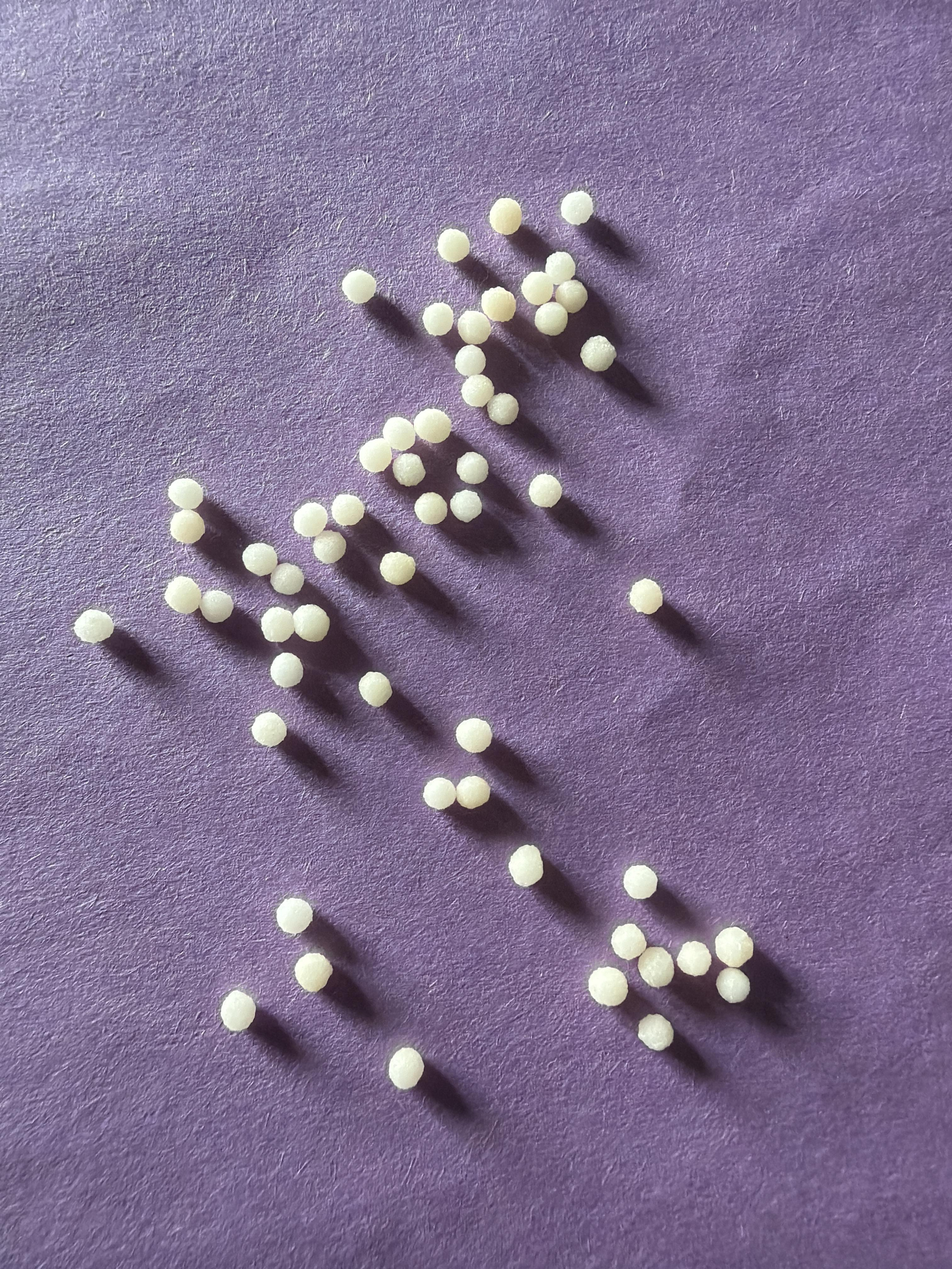pill: (588, 967, 628, 1007), (715, 927, 754, 967), (294, 952, 332, 993), (388, 1047, 424, 1090), (638, 946, 674, 988), (508, 844, 543, 887), (220, 990, 255, 1032), (275, 897, 313, 935), (164, 576, 201, 614), (293, 604, 330, 642), (73, 609, 114, 643), (610, 923, 647, 960), (413, 407, 451, 443), (638, 1014, 674, 1051), (251, 711, 287, 747), (580, 336, 616, 372), (455, 718, 492, 753), (292, 501, 327, 538), (242, 542, 278, 577), (481, 286, 516, 322), (358, 436, 392, 473), (489, 197, 522, 235), (260, 607, 295, 642), (341, 269, 376, 304), (629, 578, 663, 614), (358, 671, 392, 707), (677, 940, 711, 976), (716, 967, 750, 1003), (379, 552, 416, 585), (382, 416, 416, 451), (436, 228, 470, 263), (528, 473, 562, 508), (623, 864, 657, 899), (534, 301, 568, 336), (171, 509, 205, 544), (457, 310, 491, 344), (456, 775, 490, 809), (200, 589, 234, 623), (270, 653, 303, 688), (560, 190, 593, 225), (313, 529, 346, 564), (167, 478, 203, 510), (555, 279, 588, 313), (422, 777, 456, 810), (331, 493, 365, 526), (392, 453, 425, 487), (414, 492, 447, 525), (486, 392, 519, 425), (270, 563, 304, 595), (461, 375, 495, 407), (521, 272, 553, 306), (545, 251, 576, 286), (456, 452, 489, 484), (450, 490, 482, 523), (454, 344, 486, 377), (422, 302, 453, 336)
